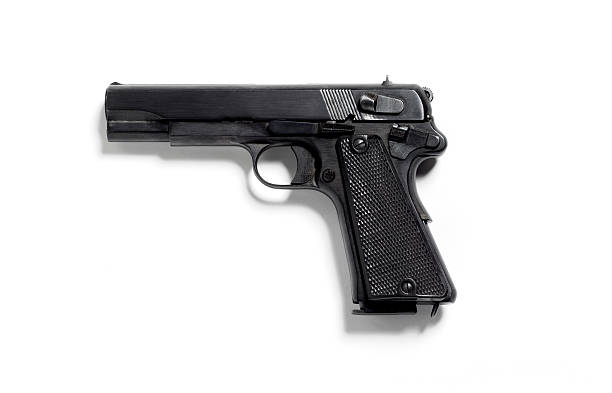pistol: (102, 70, 460, 321)
